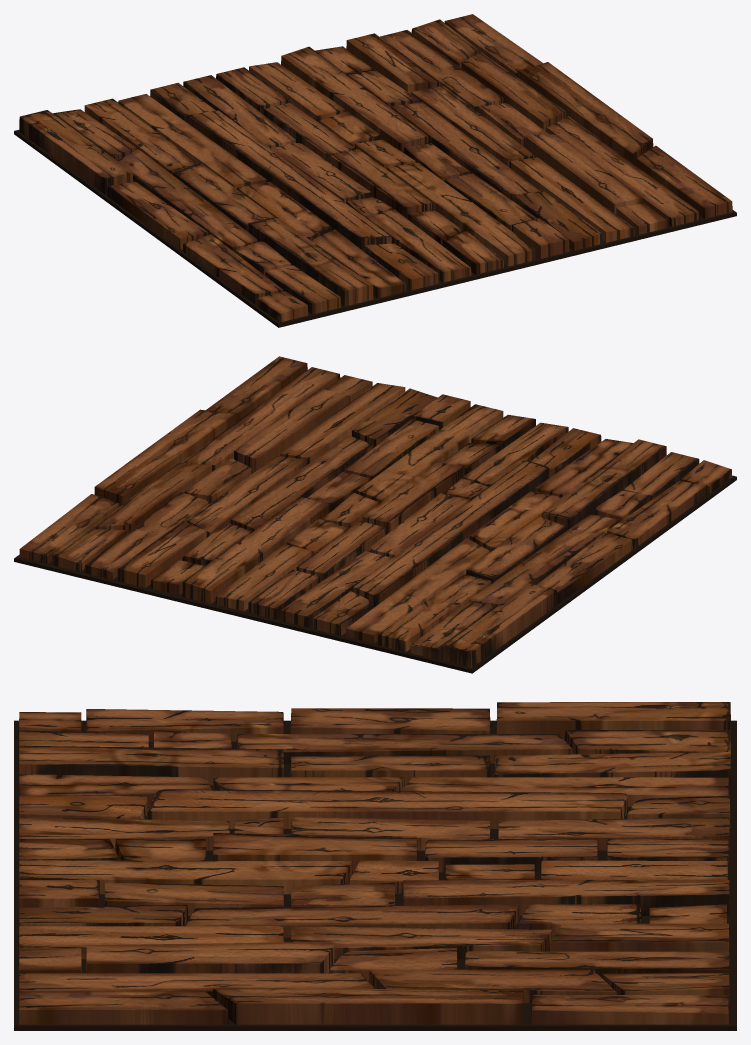
Rendered from wooden_floor.glb.
3 renders of one model, top to bottom at view 1: azimuth 30°, elevation 25°; view 2: azimuth 150°, elevation 25°; view 3: azimuth 270°, elevation 25°, orthographic. The views are drawn at different scales.
Parts seen in each view (by area): view 1: Wood Floor; view 2: Wood Floor; view 3: Wood Floor.
Part boxes in pixels (x1,y1,x2,y2): Wood Floor: (14,14,736,327); Wood Floor: (14,356,736,673); Wood Floor: (14,702,736,1030).
Bounding box in the file's own units: 2 × 0.0773 × 2.
1 material, 1 textured.
